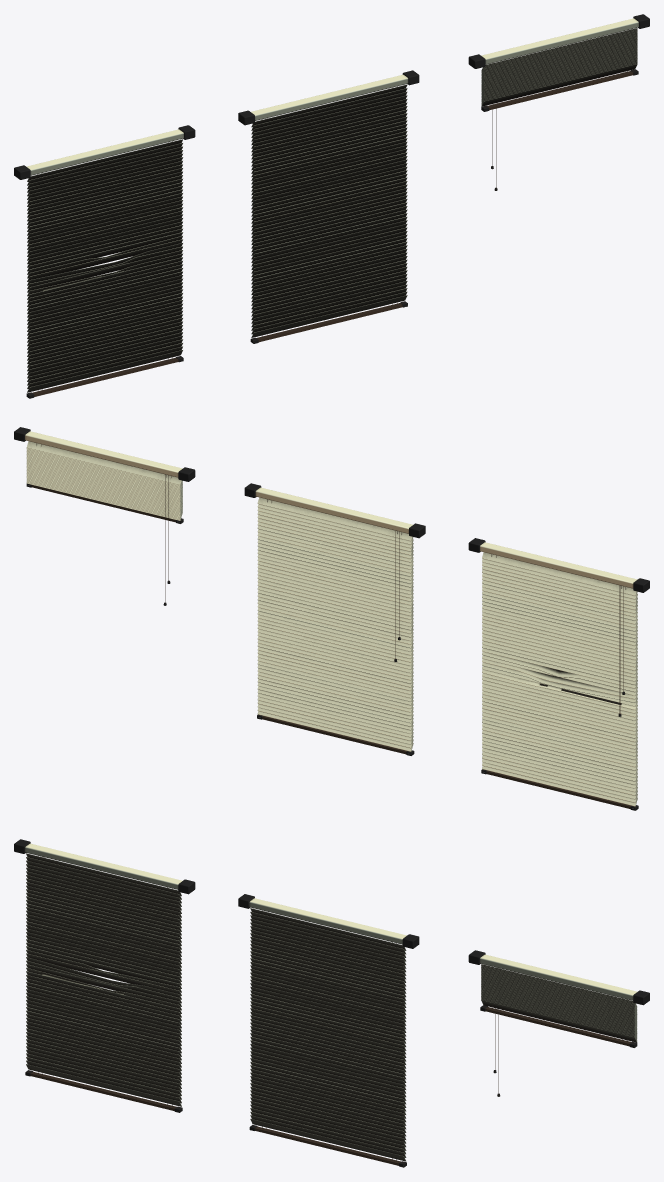
File: Window Blind.fbx
The picture shows the model from 3 angles, top to bottom: view 1: azimuth 30°, elevation 25°; view 2: azimuth 150°, elevation 25°; view 3: azimuth 330°, elevation 25°; orthographic projection.
Visible parts, largest first — view 1: 02, 01, 03; view 2: 02, 01, 03; view 3: 02, 01, 03.
Part boxes in pixels (bbox=[...]): 02: bbox=[238, 70, 419, 343]; 01: bbox=[14, 125, 195, 398]; 03: bbox=[468, 14, 649, 190]; 02: bbox=[244, 483, 425, 755]; 01: bbox=[468, 538, 649, 810]; 03: bbox=[14, 427, 195, 605]; 02: bbox=[238, 894, 419, 1167]; 01: bbox=[14, 839, 195, 1112]; 03: bbox=[468, 950, 649, 1096].
Size of the model in its own units: 590 by 206 by 10.72.
1 material, 1 textured.
